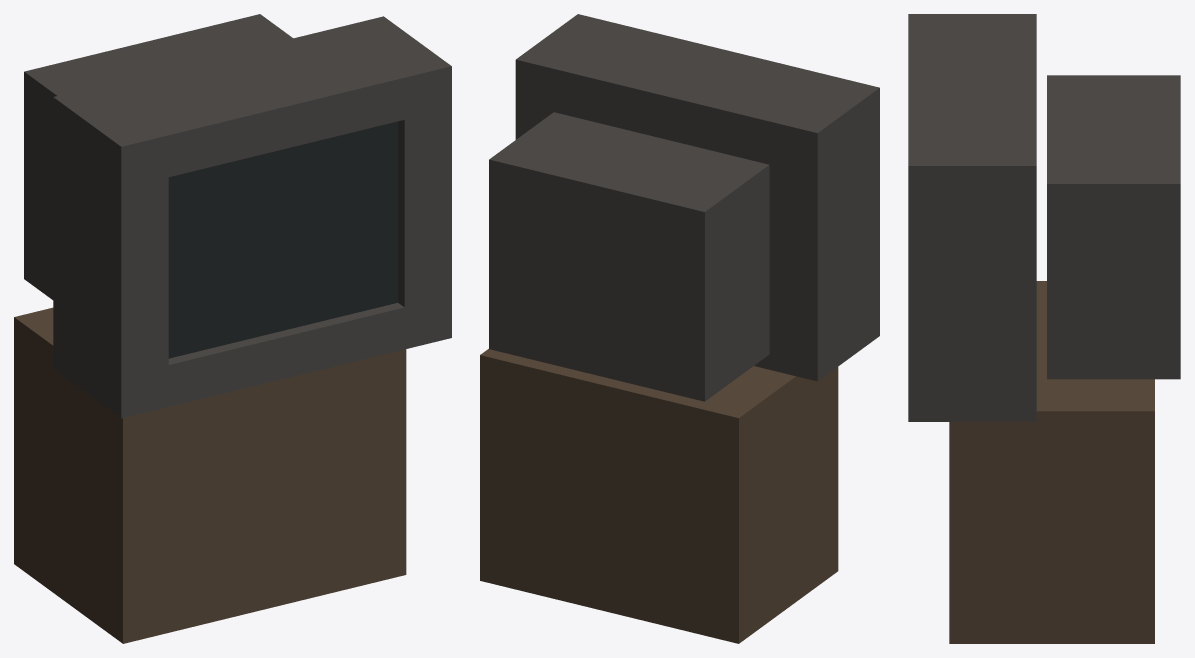
The picture shows the model from 3 angles, left to right: view 1: azimuth 30°, elevation 25°; view 2: azimuth 150°, elevation 25°; view 3: azimuth 270°, elevation 25°; orthographic projection. The views are drawn at different scales.
Visible parts, largest first — view 1: tv; view 2: tv; view 3: tv.
Part boxes in pixels (x1,y1,x2,y2): tv: (14,14,451,643); tv: (480,14,879,643); tv: (908,14,1180,643).
Size of the model in its own units: 0.7 by 1.05 by 0.53.
